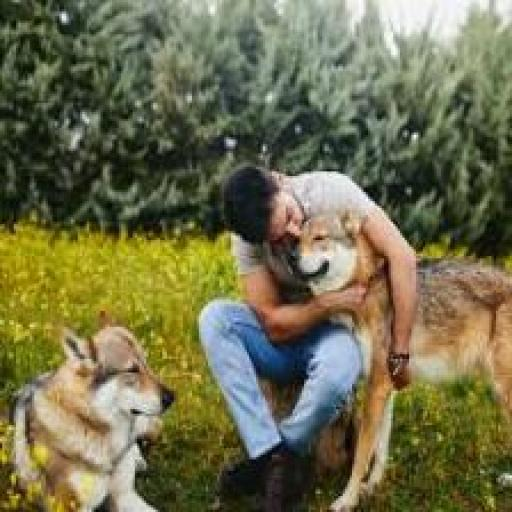wolf: (292, 212, 510, 512), (6, 308, 188, 512)
